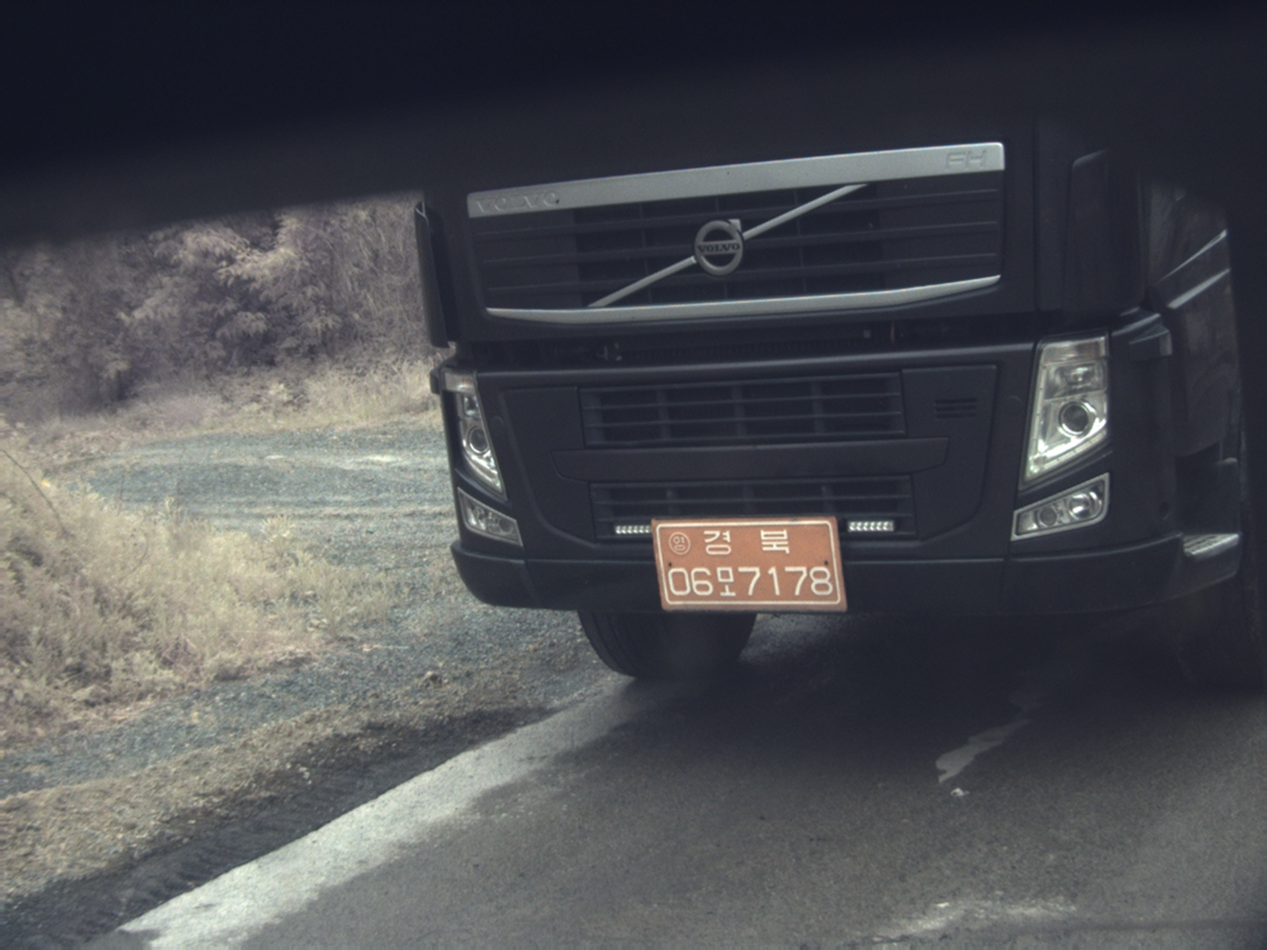license_plate: (653, 518, 844, 610)
truck: (416, 124, 1265, 685)
